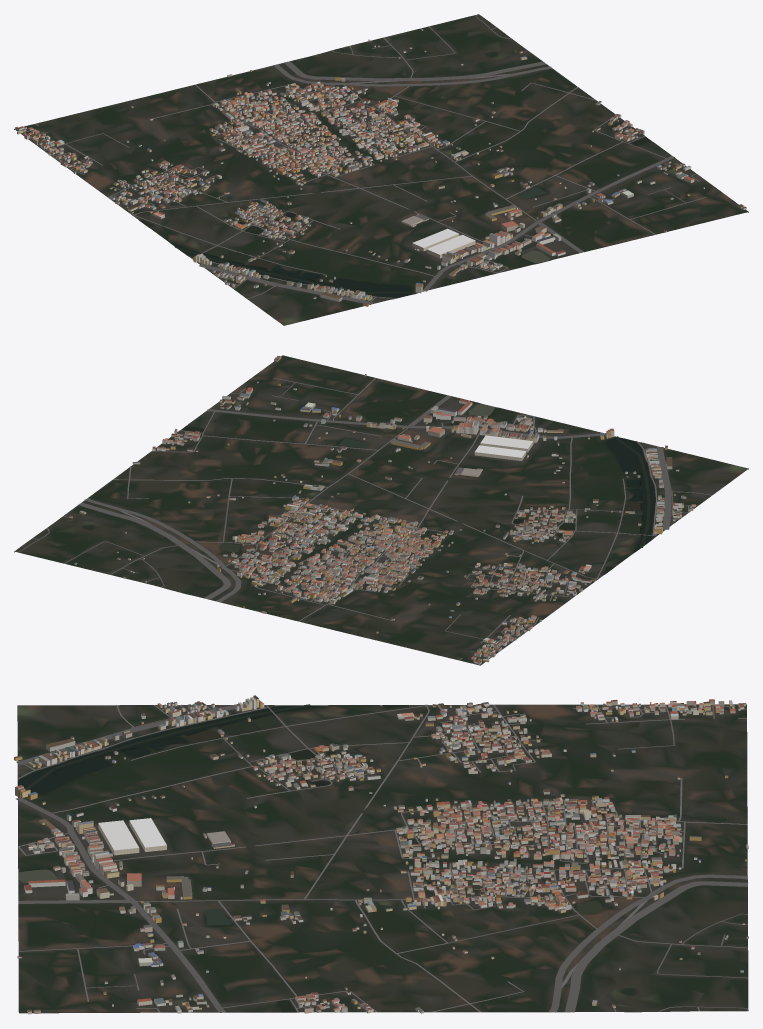
3 renders of one model, top to bottom at view 1: azimuth 30°, elevation 25°; view 2: azimuth 150°, elevation 25°; view 3: azimuth 270°, elevation 25°, orthographic. The views are drawn at different scales.
Parts seen in each view (by area): view 1: ground, buildings, roads, water; view 2: ground, buildings, roads, water; view 3: ground, buildings, roads, water.
Part boxes in pixels (x1=…): ground: x1=14, y1=14, x2=748, y2=325; buildings: x1=15, y1=28, x2=746, y2=306; roads: x1=25, y1=14, x2=706, y2=304; water: x1=139, y1=52, x2=650, y2=297; ground: x1=14, y1=355, x2=748, y2=665; buildings: x1=69, y1=356, x2=695, y2=664; roads: x1=14, y1=378, x2=711, y2=663; water: x1=82, y1=404, x2=655, y2=577; ground: x1=17, y1=704, x2=748, y2=1013; buildings: x1=14, y1=695, x2=748, y2=1014; roads: x1=16, y1=704, x2=748, y2=1012; water: x1=18, y1=704, x2=635, y2=1012.
Bounding box in the file's own units: 1414 × 30.82 × 1412.
